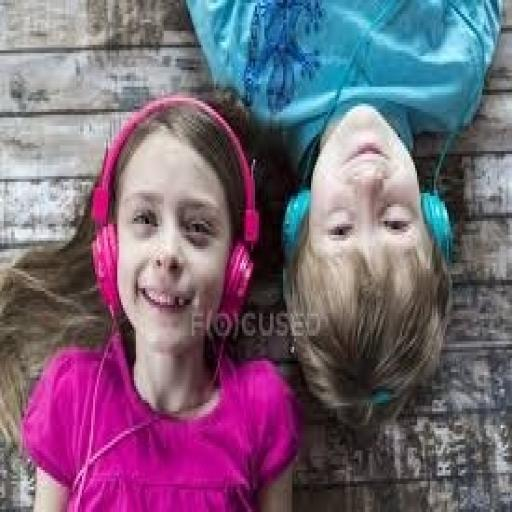listening_to_music: (2, 90, 303, 509)
